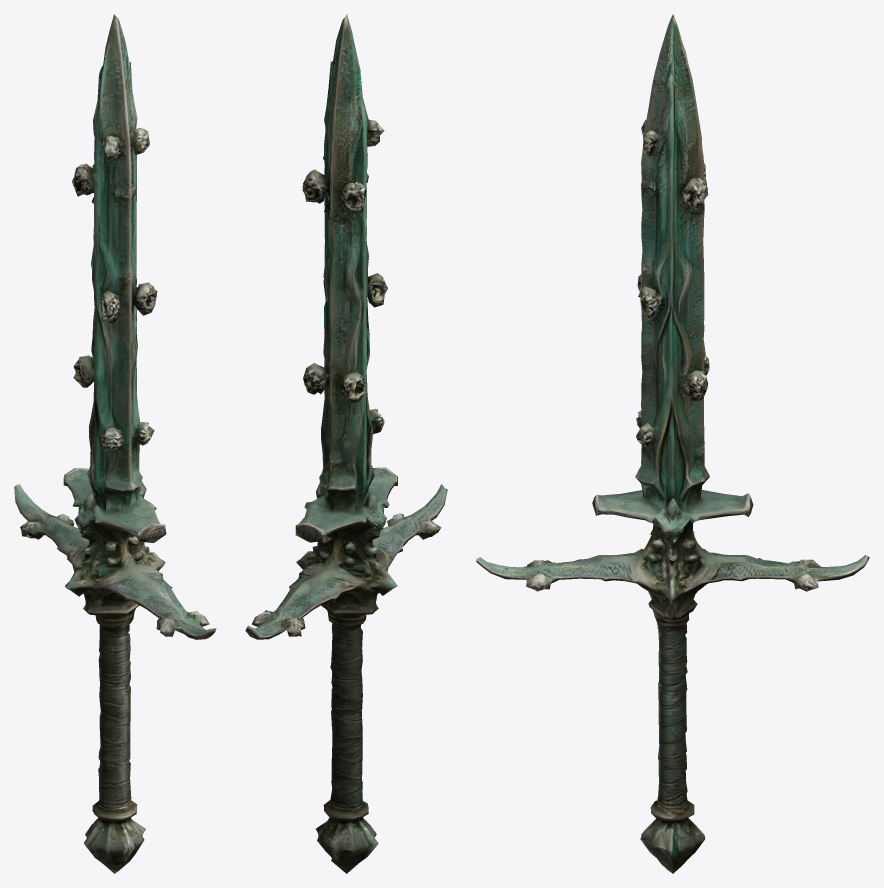
The model's file is w_crypt_great.glb.
The picture shows the model from 3 angles, left to right: view 1: azimuth 30°, elevation 25°; view 2: azimuth 150°, elevation 25°; view 3: azimuth 270°, elevation 25°; orthographic projection.
Parts seen in each view (by area): view 1: tripo_node_10f075c4-3dd2-4827-919d-a88bf54d6a21; view 2: tripo_node_10f075c4-3dd2-4827-919d-a88bf54d6a21; view 3: tripo_node_10f075c4-3dd2-4827-919d-a88bf54d6a21.
Part boxes in pixels (x1,y1,x2,y2): tripo_node_10f075c4-3dd2-4827-919d-a88bf54d6a21: (14,14,216,873); tripo_node_10f075c4-3dd2-4827-919d-a88bf54d6a21: (245,14,447,873); tripo_node_10f075c4-3dd2-4827-919d-a88bf54d6a21: (476,14,869,873).
Bounding box in the file's own units: 0.1227 × 1 × 0.4149.
Materials: 1 (1 with a texture image).
